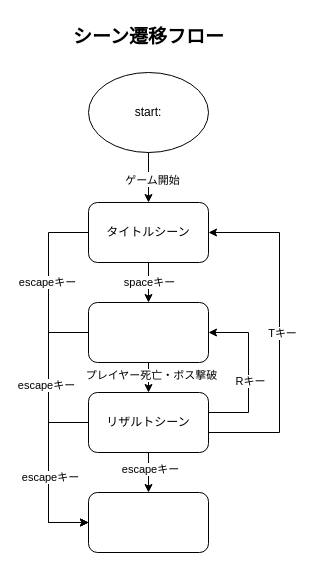
The diagram is 313 pixels wide and 570 high, and some of its shapes have lost their labels. The centre of each missing label's shape, as x and y in pixels:
"ゲームシーン" goes at pixel 148 332.
"ゲーム終了" goes at pixel 148 522.
